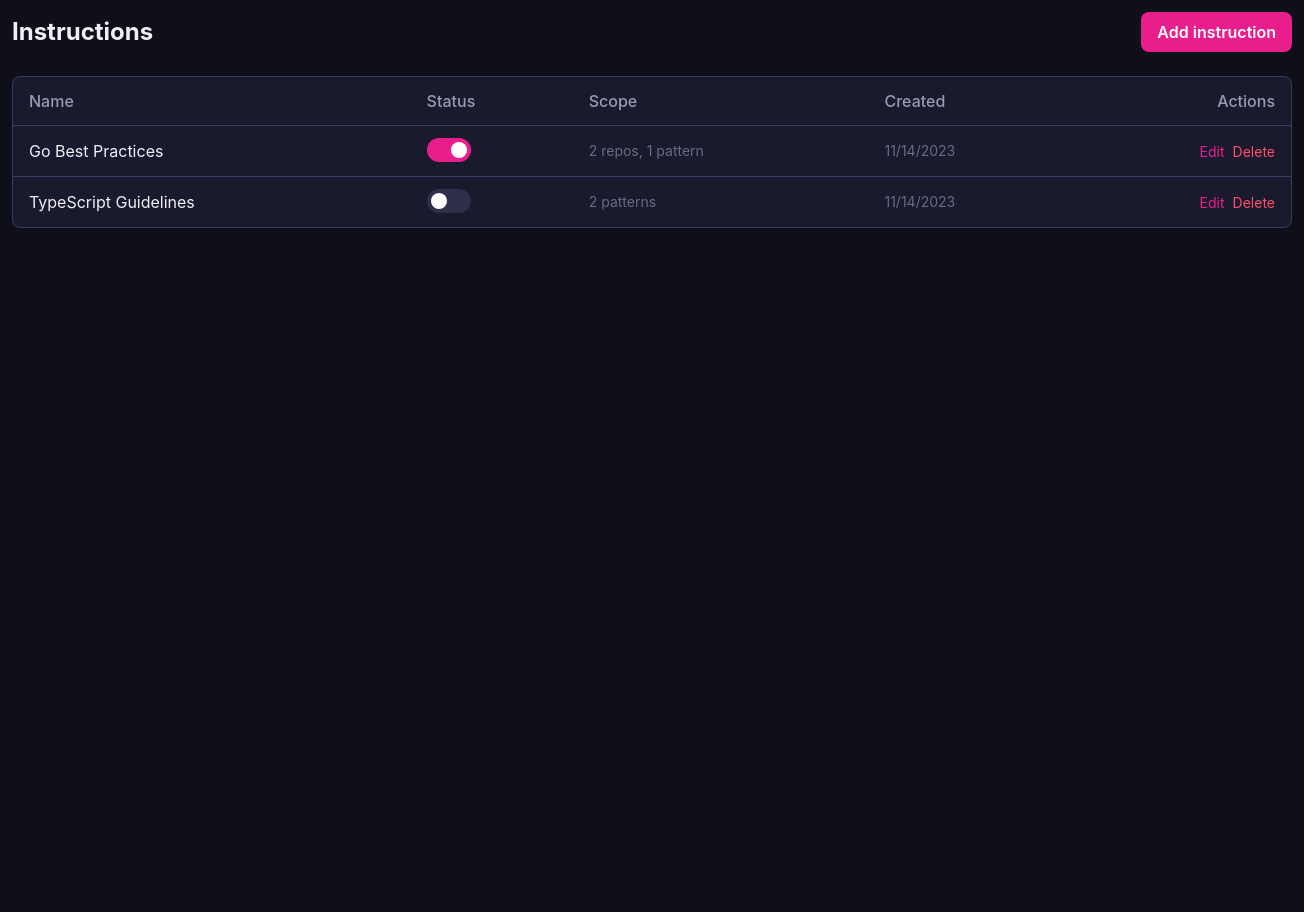
Scenario: Instructions page › edit form › clicking Edit on a row expands inline edit form pre-filled with existing values
The image size is (1304, 912).
Expected: the text "Go Best Practices" is shown, [13,126,411,176]
Step 1. Click the button "Edit" in the row of "Go Best Practices" → (1212, 152), box [1200,142,1225,162]
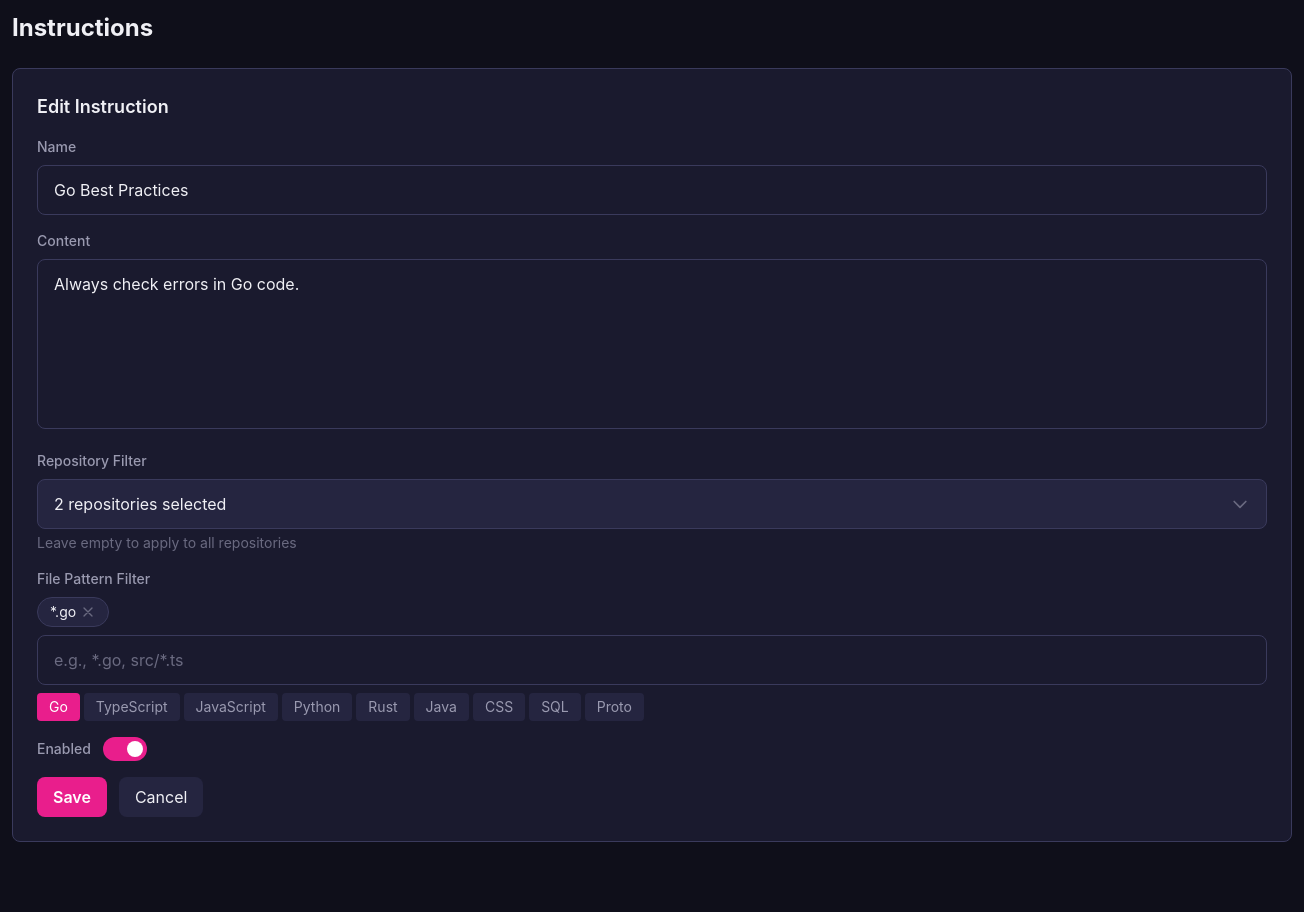
Result: the field labelled "Name" holds "Go Best Practices" at [37,165,1267,215]
Result: the text box labelled "Content" holds "Always check errors in Go code." at [37,259,1267,429]
